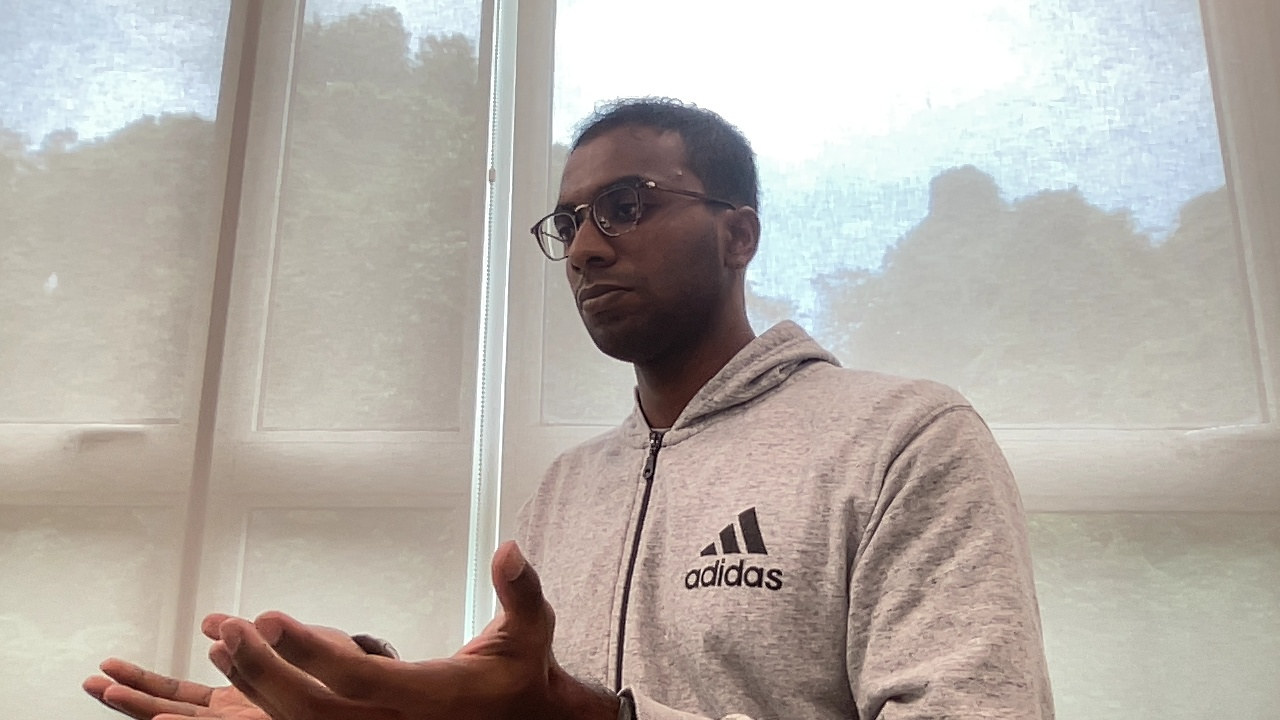give: (75, 536, 571, 720)
